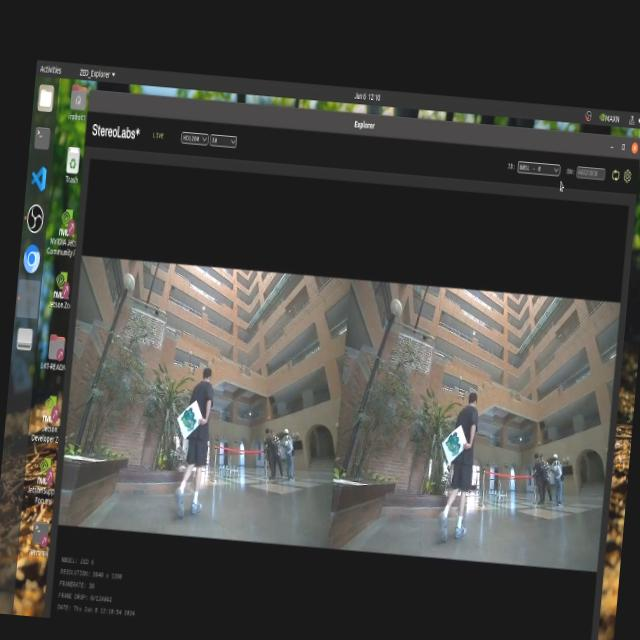green: (176, 401, 202, 438), (439, 428, 463, 458)
